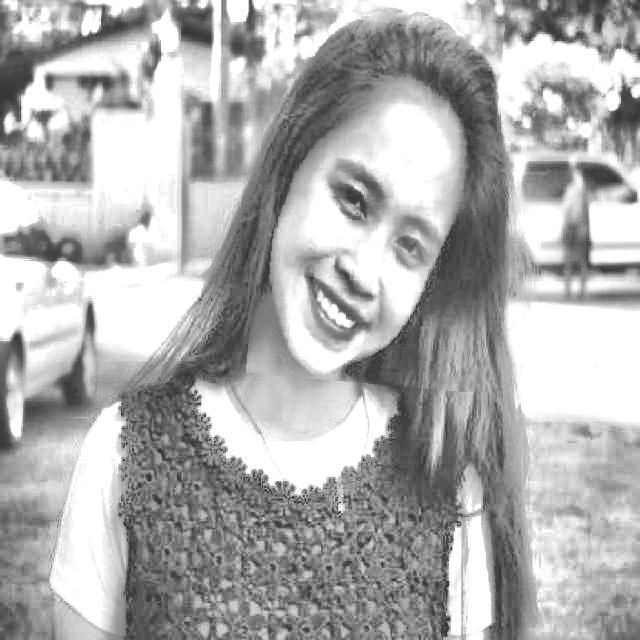happy: (254, 8, 498, 388)
